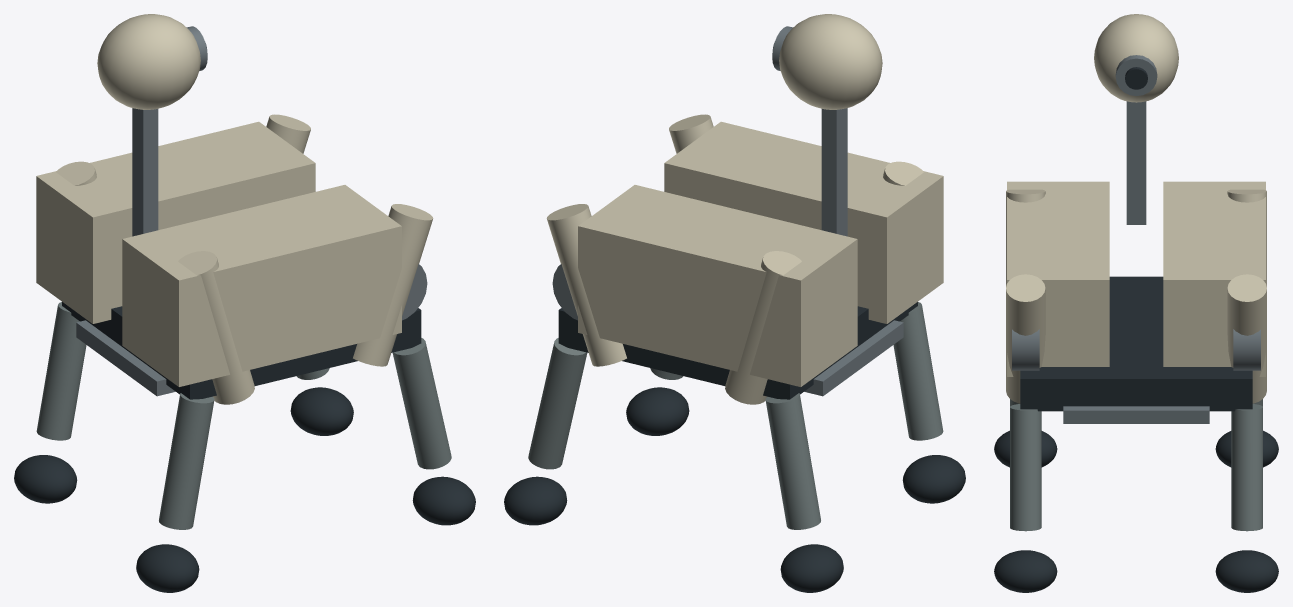
File: warden-early-crawler-sensor-mast-v1.glb
The picture shows the model from 3 angles, left to right: view 1: azimuth 30°, elevation 25°; view 2: azimuth 150°, elevation 25°; view 3: azimuth 270°, elevation 25°; orthographic projection. The views are drawn at different scales.
Visible parts, largest first — view 1: Sensor Mast Crawler · Early Crawler Lab; view 2: Sensor Mast Crawler · Early Crawler Lab; view 3: Sensor Mast Crawler · Early Crawler Lab.
Boxes of the visible parts, box(x1,y1,x2,y2) form: Sensor Mast Crawler · Early Crawler Lab: box(14, 14, 475, 592); Sensor Mast Crawler · Early Crawler Lab: box(504, 14, 965, 592); Sensor Mast Crawler · Early Crawler Lab: box(994, 14, 1278, 592).
Size of the model in its own units: 2.89 by 4.31 by 2.38.
